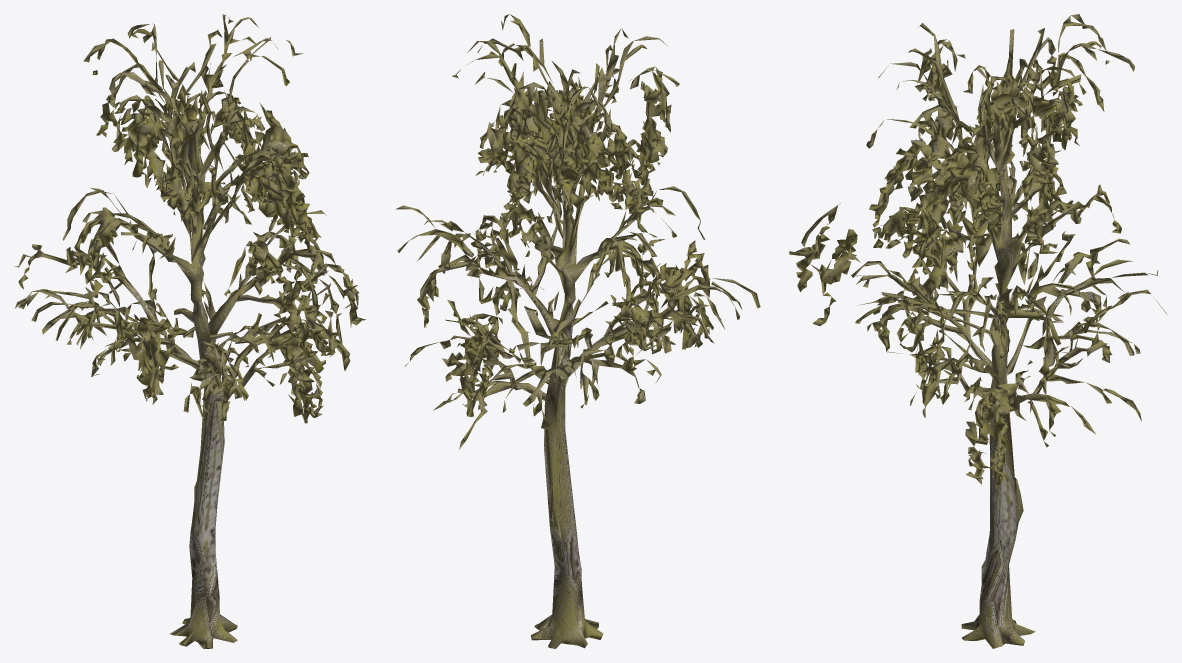
The model's file is betula-utilis-l1.glb.
3 renders of one model, left to right at view 1: azimuth 30°, elevation 25°; view 2: azimuth 150°, elevation 25°; view 3: azimuth 270°, elevation 25°, orthographic.
Parts seen in each view (by area): view 1: world; view 2: world; view 3: world.
Boxes of the visible parts, x1,y1,x2,y2 form: world: (14, 14, 365, 648); world: (396, 14, 760, 648); world: (789, 14, 1167, 648).
Size of the model in its own units: 6.59 by 11.96 by 6.87.
Materials: 1 (1 with a texture image).
